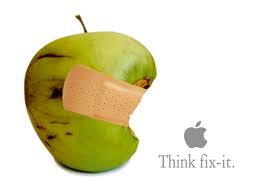damaged_apple: (25, 36, 157, 172)
